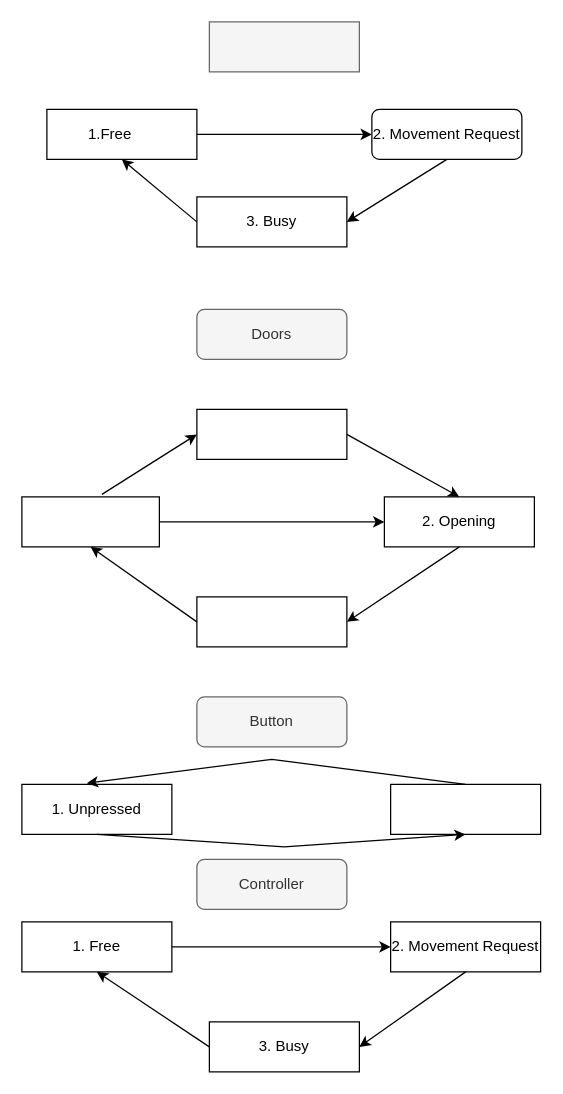
The diagram is 563 pixels wide and 1094 high, and some of its shapes have lost their labels. The box of each missing label's shape, as (x1, y1, x2, y2) in pixels:
1.Closed: (196, 408, 347, 459)
2. Pressed: (389, 783, 541, 834)
3. Opened: (196, 596, 347, 647)
4. Closing: (21, 496, 159, 547)
Cabin: (208, 21, 359, 72)
